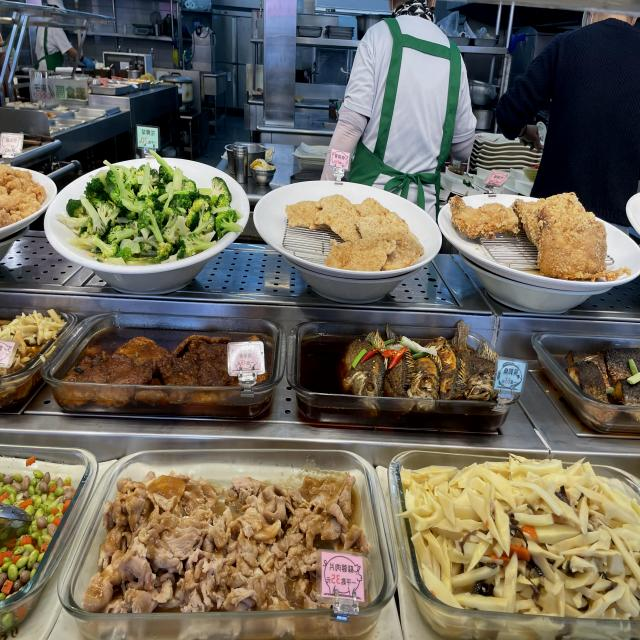Broccoli: (86, 188, 209, 248)
